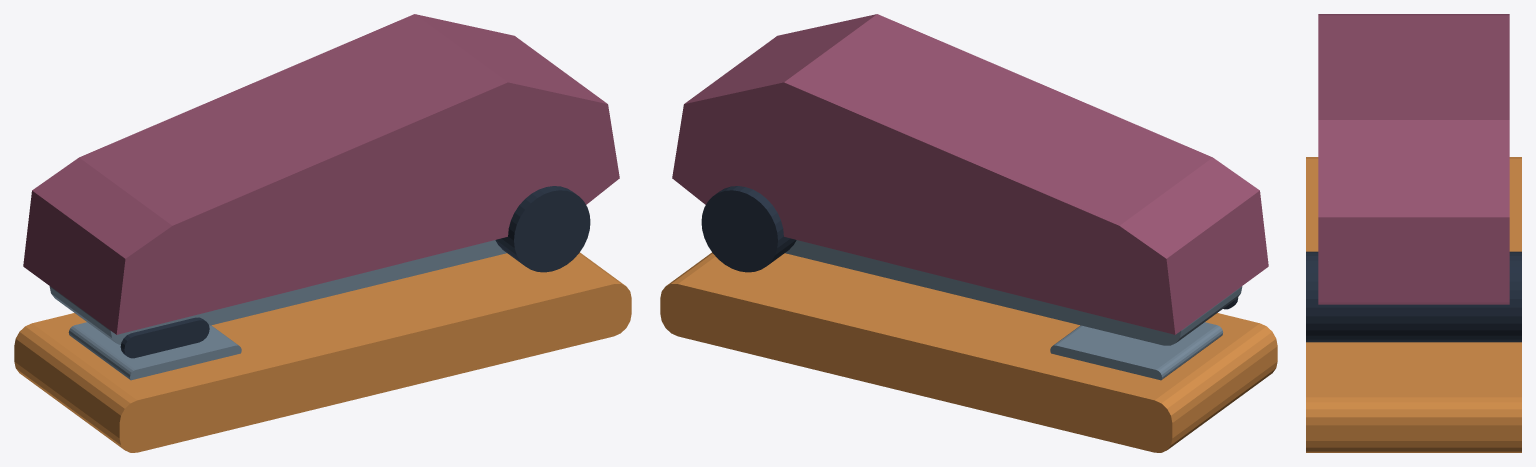
The model's file is nailer.glb.
The picture shows the model from 3 angles, left to right: view 1: azimuth 30°, elevation 25°; view 2: azimuth 150°, elevation 25°; view 3: azimuth 270°, elevation 25°; orthographic projection. The views are drawn at different scales.
Parts seen in each view (by area): view 1: lever, base, hinge, magazine, anvil, paper notch; view 2: lever, base, magazine, hinge, anvil; view 3: lever, base, hinge.
Boxes of the visible parts, left/top/right/bottom form: lever: left=23, top=14, right=619, bottom=334; base: left=14, top=252, right=631, bottom=452; hinge: left=495, top=186, right=590, bottom=272; magazine: left=49, top=240, right=506, bottom=345; anvil: left=68, top=322, right=241, bottom=380; paper notch: left=120, top=317, right=209, bottom=358; lever: left=672, top=14, right=1268, bottom=334; base: left=660, top=252, right=1277, bottom=452; magazine: left=785, top=240, right=1242, bottom=345; hinge: left=701, top=186, right=796, bottom=272; anvil: left=1050, top=322, right=1223, bottom=380; lever: left=1318, top=14, right=1509, bottom=304; base: left=1306, top=157, right=1521, bottom=452; hinge: left=1306, top=251, right=1521, bottom=342.
Bounding box in the file's own units: 1.74 × 0.89 × 0.62.
